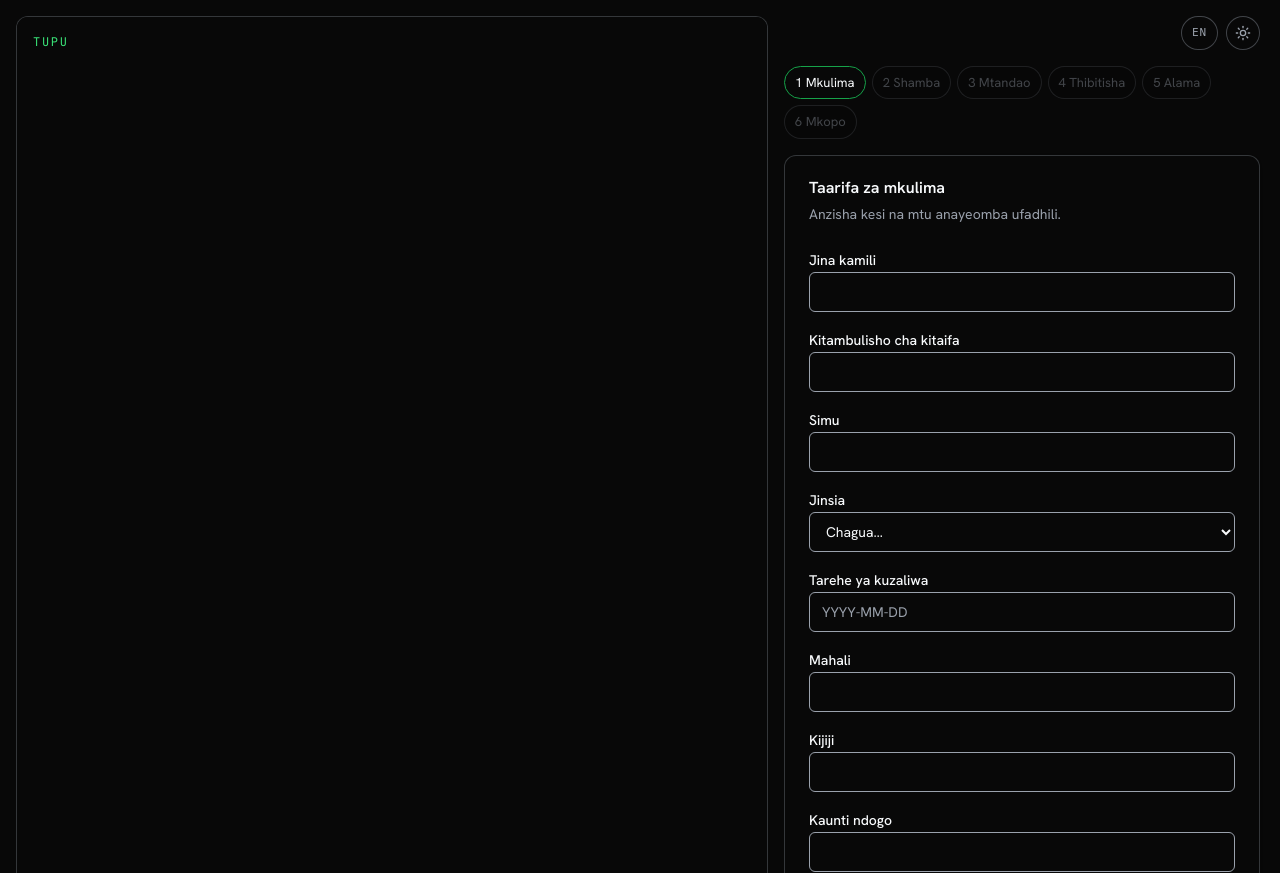
Test: i18n › translates the case workflow and toggles back to English
The image size is (1280, 873).
Expected: the text "Taarifa za mkulima" is shown, [809, 177, 945, 198]
Expected: the button "1 Mkulima" is shown, [784, 66, 866, 99]
Click the button with aria-label "badilisha lugha kuwa kiingereza": (1200, 33) [1181, 16, 1218, 50]
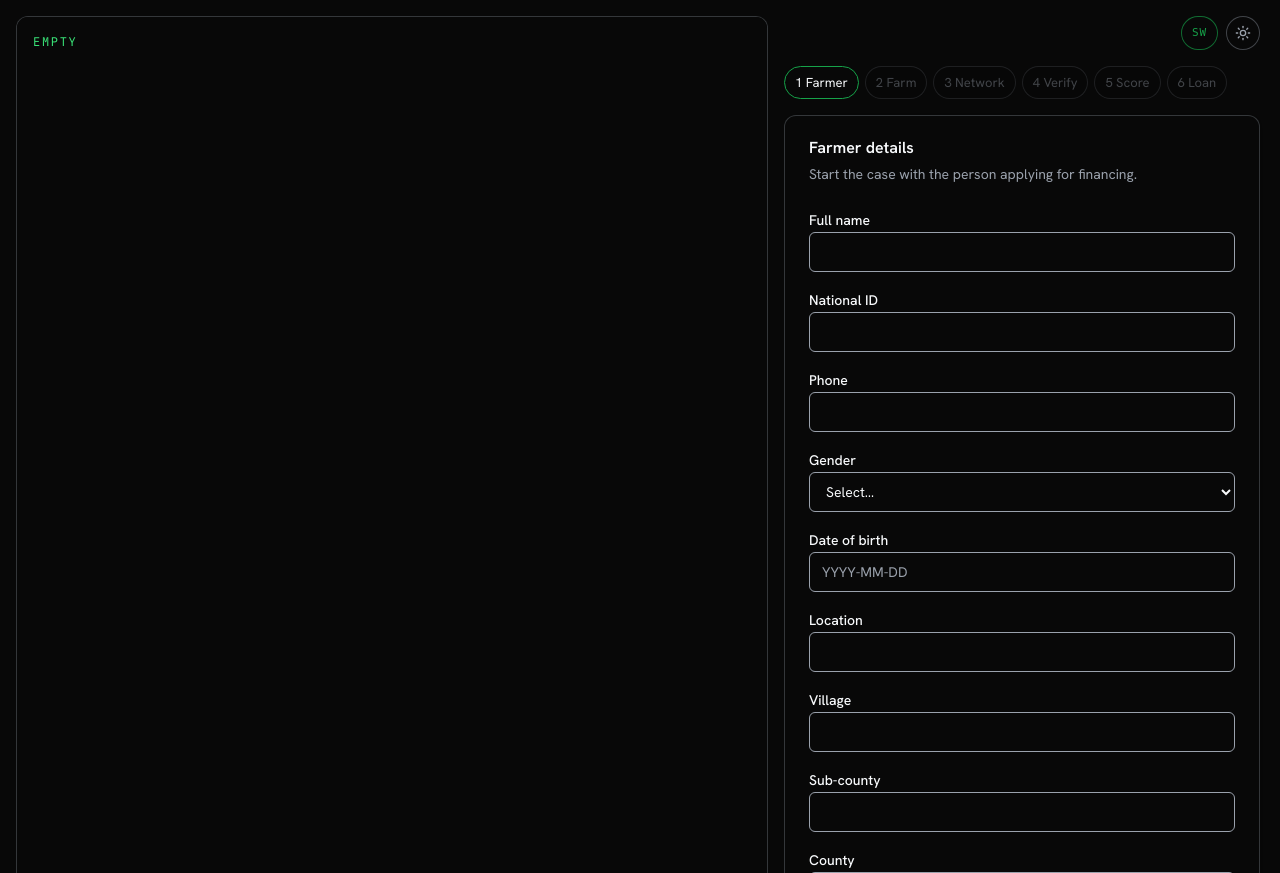
Expected: the field labelled "Full name" is shown, [809, 232, 1235, 272]
Now the text "Farmer details" is shown, box [809, 137, 914, 158]
Now the button "1 Farmer" is shown, box [784, 66, 859, 99]
